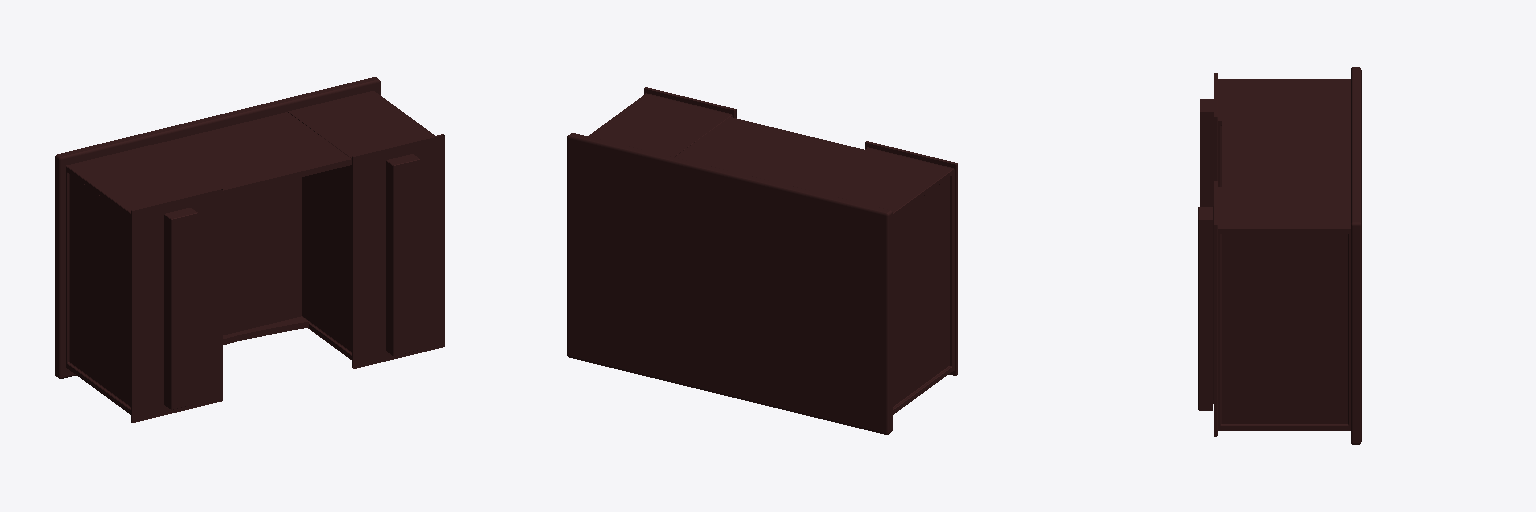
Rendered from MESAGRANDEa.obj.
3 views of the same model, side by side, from view 1: azimuth 30°, elevation 25°; view 2: azimuth 150°, elevation 25°; view 3: azimuth 270°, elevation 25° (orthographic).
Bounding box in the file's own units: 30 × 19.8 × 13.16.